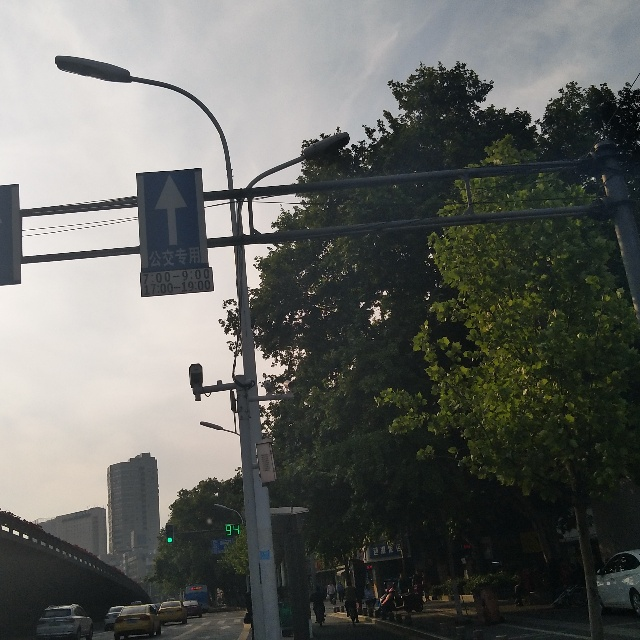straight: (137, 167, 211, 272)
